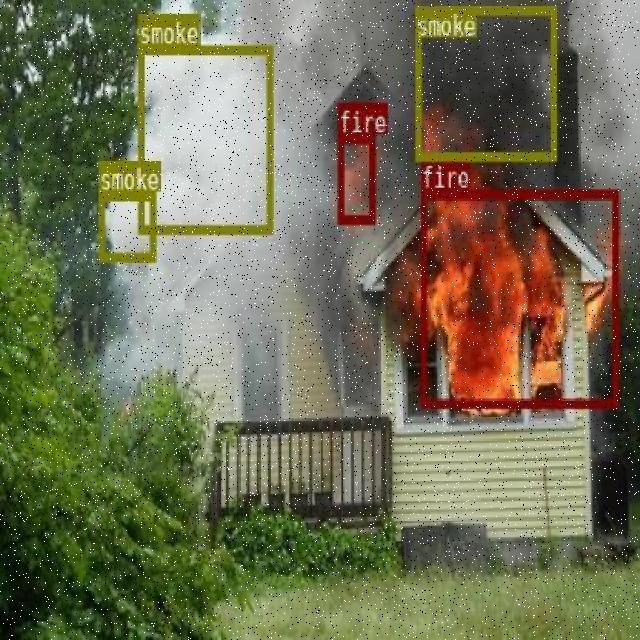Smoke: (169, 11, 239, 136), (449, 31, 520, 121), (97, 190, 154, 259)
